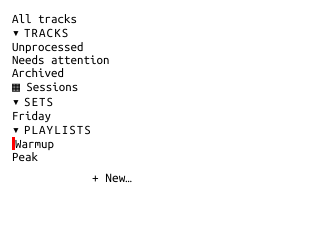
Test case: unified create popup (gh#174) › picking Playlist expands the section and opens the inline name form
Click the button "▾ Playlists": (52, 130) [12, 123, 92, 136]
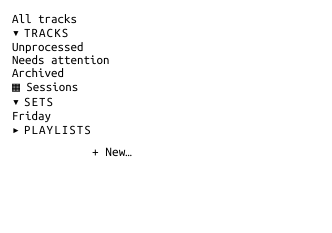
Click the button "+ New…": (112, 152) [20, 145, 204, 158]
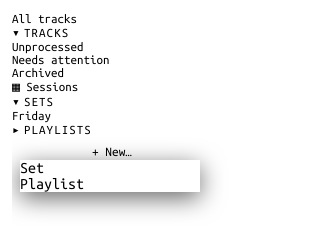
Click the menu item with class "context-menu-item" showing "Playlist": (52, 184) [20, 176, 84, 192]
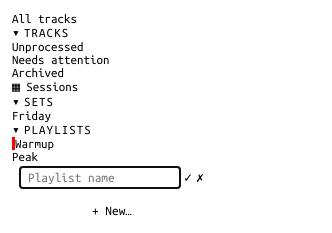
Check: the field with placeholder "Playlist name" is shown, box [20, 167, 180, 188]
Check: the element with class "context-menu" is gone
